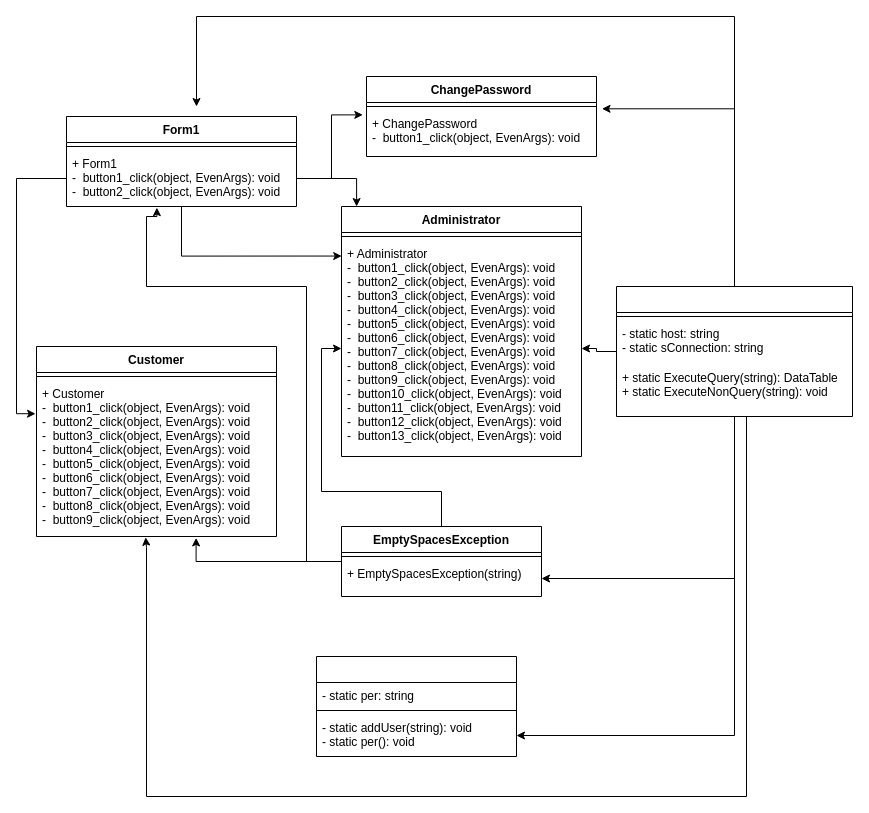
This 869x813 diagram has some shape labels left out. The shapes that lost their labels are listed below. From the top down, each one's box as (x1, y1, x2, y2) in pixels, then its label:
(616, 286, 852, 416): ConnectionDB
(316, 656, 516, 756): ActualUser
